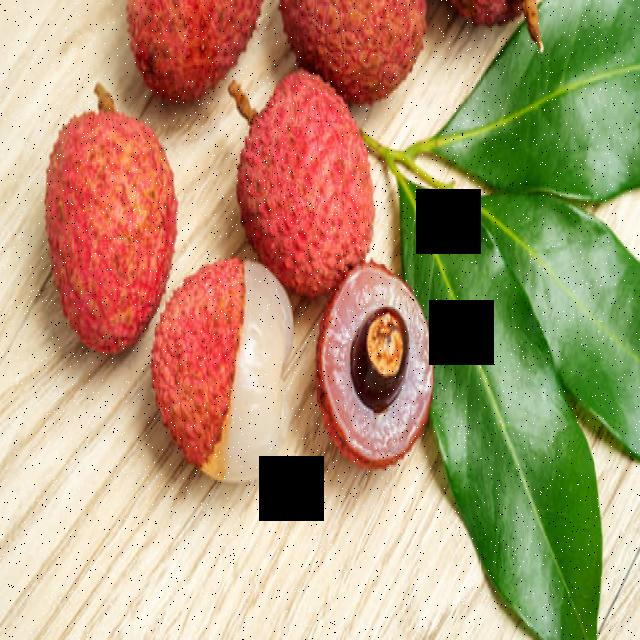lychee: (63, 50, 444, 478)
